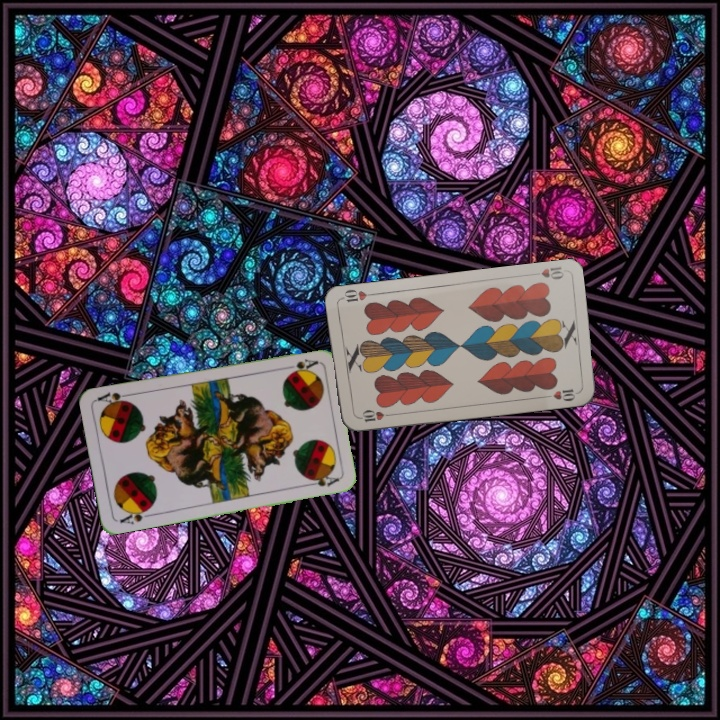H10: (353, 406, 394, 424), (537, 263, 566, 282)
SA: (115, 503, 155, 527), (279, 355, 320, 376)
